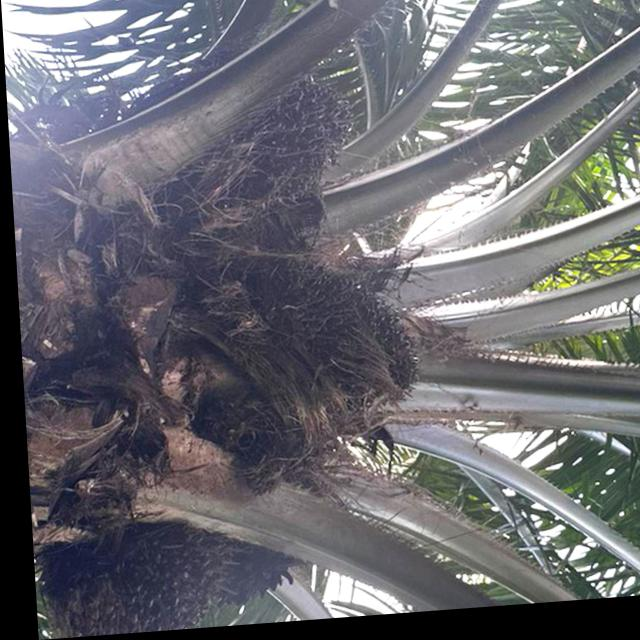unripe: (228, 245, 416, 438), (25, 517, 240, 640), (210, 75, 361, 207)
